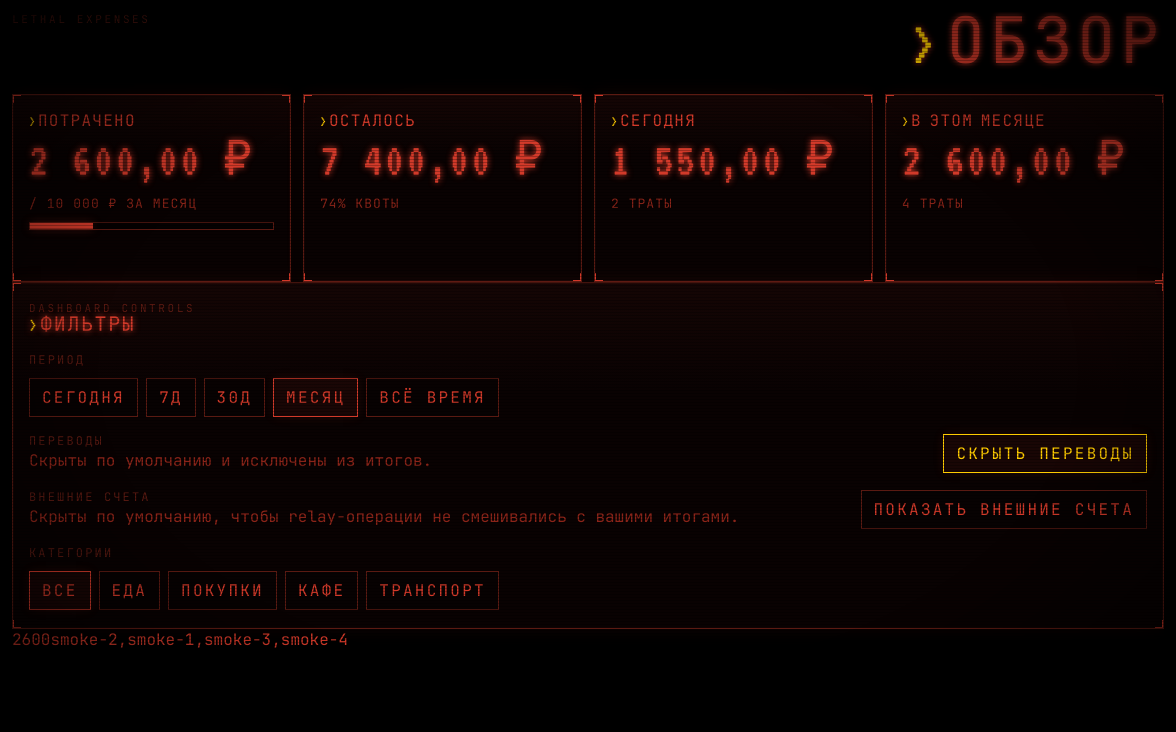
Filters › reveals external-account rows only when the audit toggle is enabled
Expected: the text with test id "filtered-total" reads "2600", [12,629,50,650]
Expected: the text with test id "filtered-ids" does not show "smoke-external", [50,629,348,650]
Click the switch labelled "ПОКАЗАТЬ ВНЕШНИЕ СЧЕТА": x=1004, y=509 [860,490,1147,528]
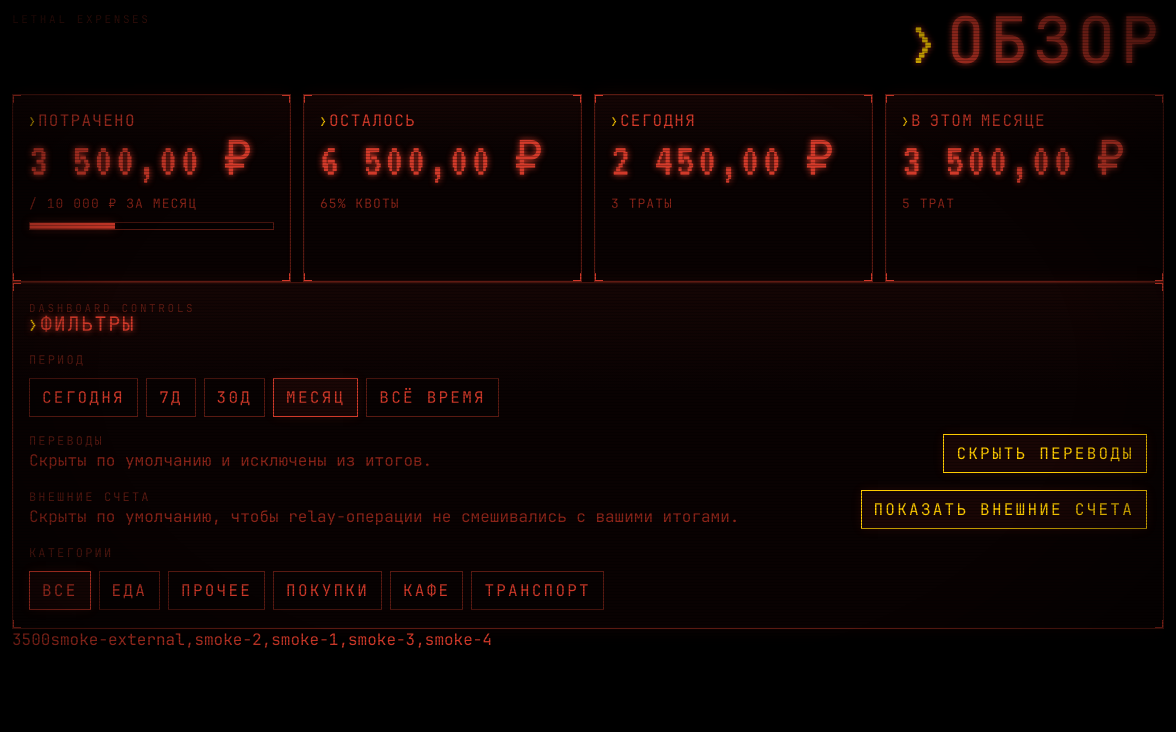
Now the text with test id "filtered-total" reads "3500", box [12,629,50,650]
Now the text with test id "filtered-ids" shows "smoke-external", box [50,629,492,650]
